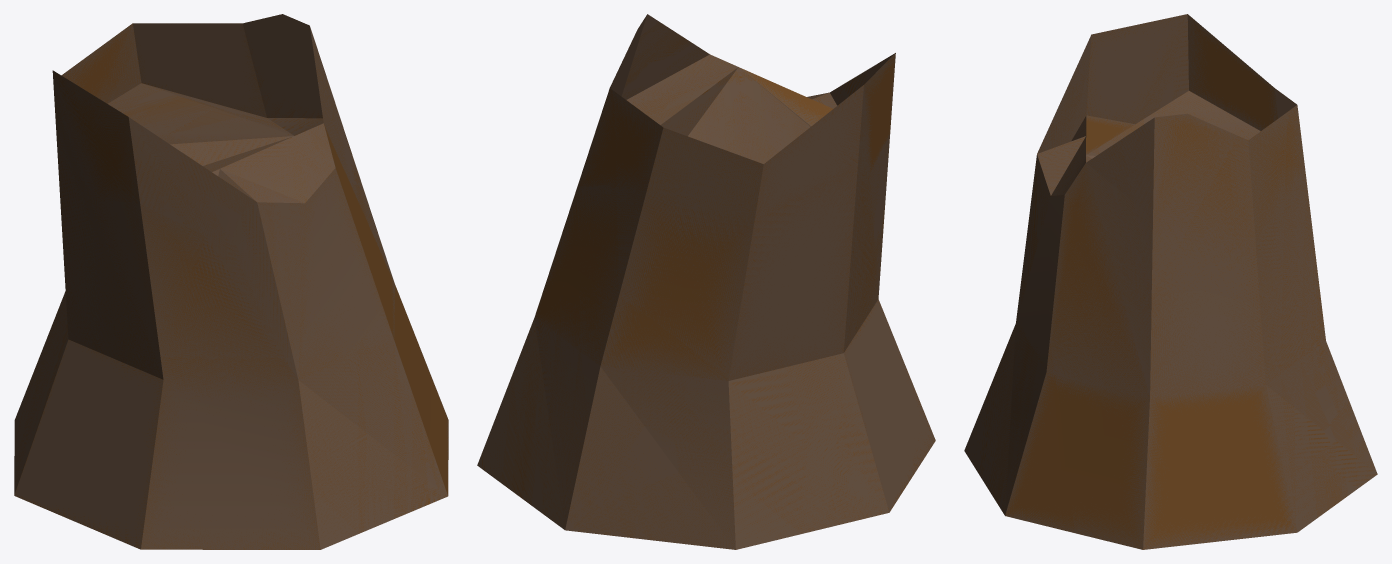
File: Vegetation_Tree_Stump_06.fbx
3 views of the same model, side by side, from view 1: azimuth 30°, elevation 25°; view 2: azimuth 150°, elevation 25°; view 3: azimuth 270°, elevation 25° (orthographic). The views are drawn at different scales.
Parts seen in each view (by area): view 1: Vegetation_Tree_Stump_06; view 2: Vegetation_Tree_Stump_06; view 3: Vegetation_Tree_Stump_06.
Part boxes in pixels (box(x1,y1,x2,y2)): Vegetation_Tree_Stump_06: box(14, 14, 448, 549); Vegetation_Tree_Stump_06: box(477, 14, 935, 549); Vegetation_Tree_Stump_06: box(964, 14, 1377, 549).
Size of the model in its own units: 22.97 by 22.99 by 22.97.
